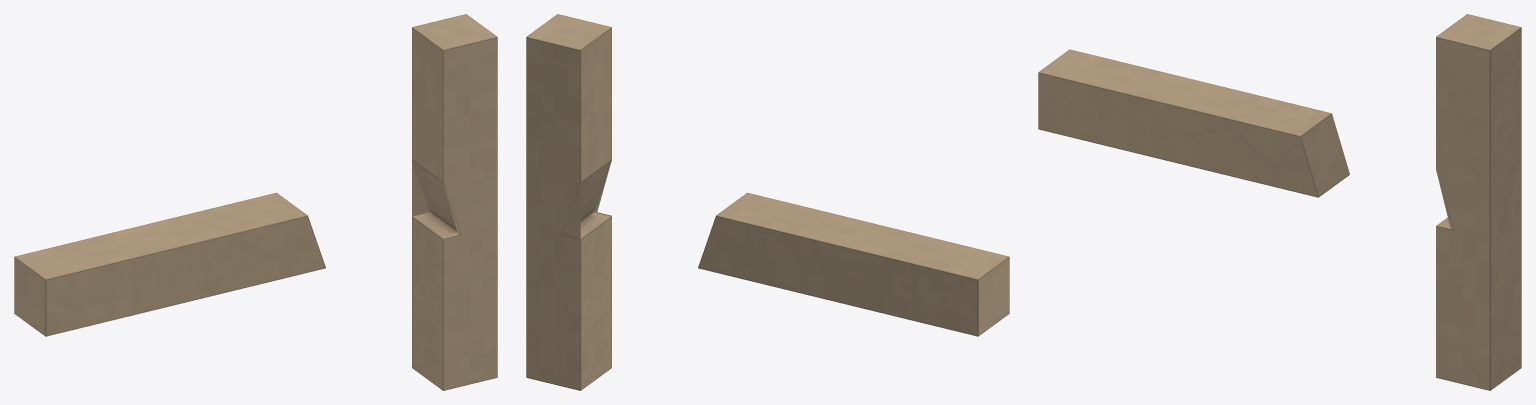
File: katagi-ooire.glb
3 renders of one model, left to right at view 1: azimuth 30°, elevation 25°; view 2: azimuth 150°, elevation 25°; view 3: azimuth 330°, elevation 25°, orthographic.
Parts seen in each view (by area): view 1: part-a, part-b; view 2: part-a, part-b; view 3: part-a, part-b.
Boxes of the visible parts, x1=… form: part-a: x1=412, y1=14, x2=497, y2=390; part-b: x1=14, y1=192, x2=325, y2=336; part-a: x1=526, y1=14, x2=611, y2=390; part-b: x1=698, y1=192, x2=1009, y2=336; part-a: x1=1436, y1=14, x2=1521, y2=390; part-b: x1=1038, y1=49, x2=1349, y2=197.
Bounding box in the file's own units: 1 × 0.7208 × 0.1208.
